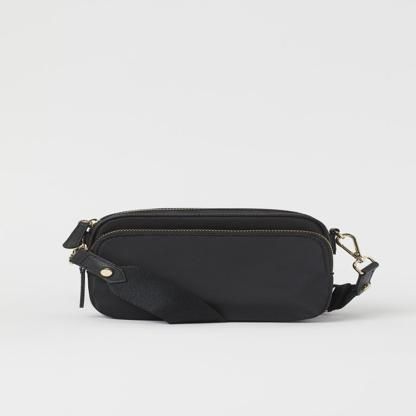not trash: (65, 211, 380, 323)
